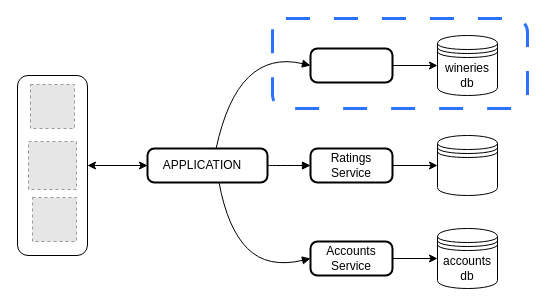
Image size: 546x306. Some labels were removed from this diagram. Grey dashed boxes stand in for pictures. Here are the shapes that lost their labels. From the top down, the centre of each, then its label:
At (351,65): "Wineries Service".
At (467,165): "ratings db".
